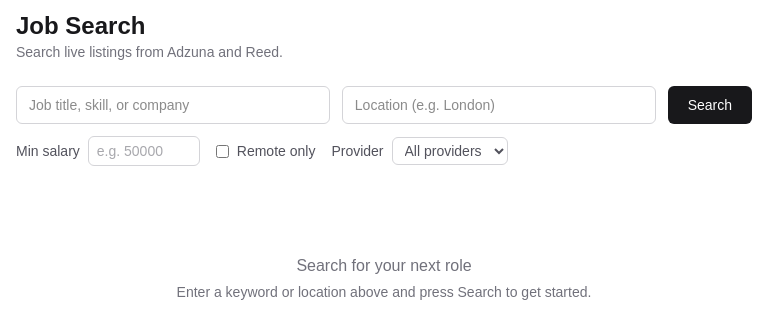
Test: JobSearchScreen › does not show the mock-data notice when the API reports isMock: false
This screenshot has width=769, height=317.
What coordinates should you click on to do the following:
click the button "Search"
I would click on:
 (710, 105)
Its box is [668,86,752,124].
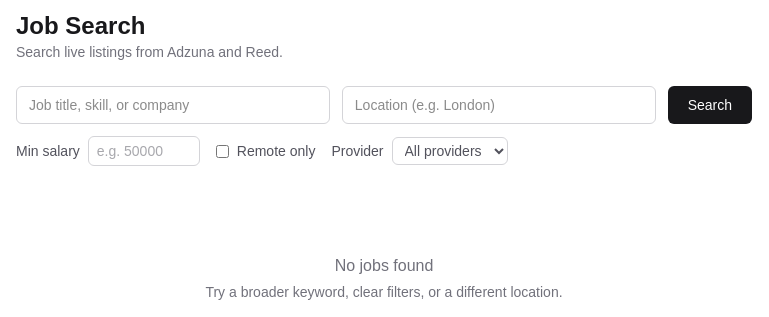
Expected: the text "No jobs found" is shown, [335,254,433,278]
